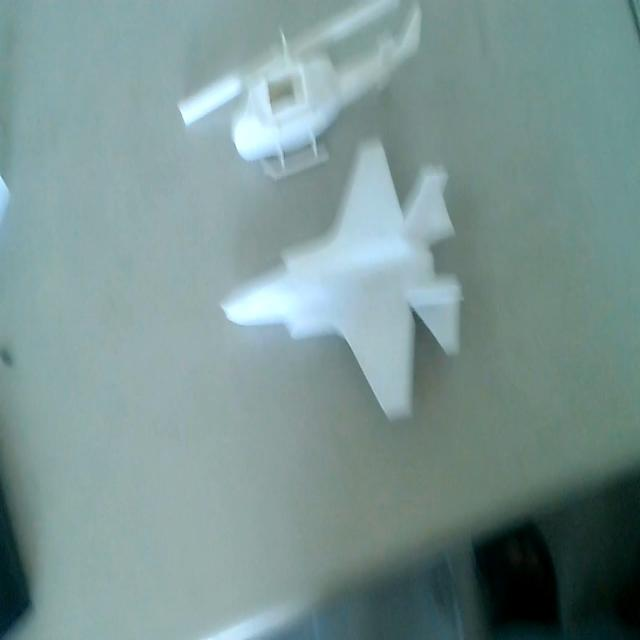Helicopter: (172, 2, 427, 179)
Jet: (218, 146, 465, 423)
